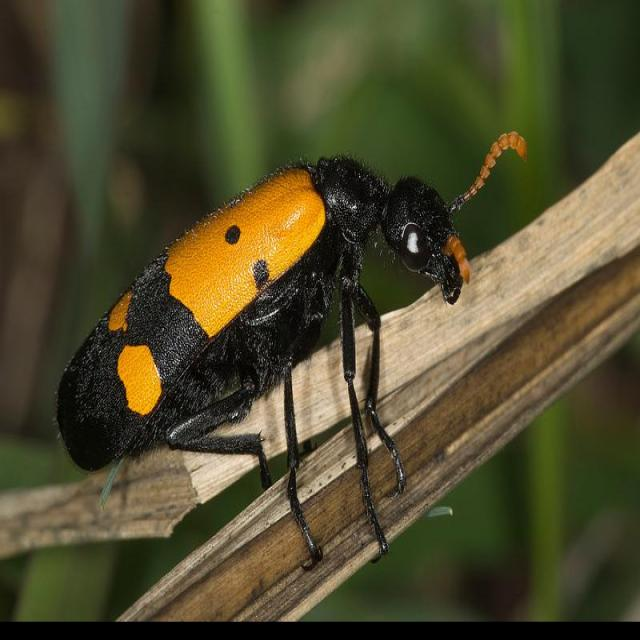BlisterBeetle-Adult-: (52, 128, 530, 575)
